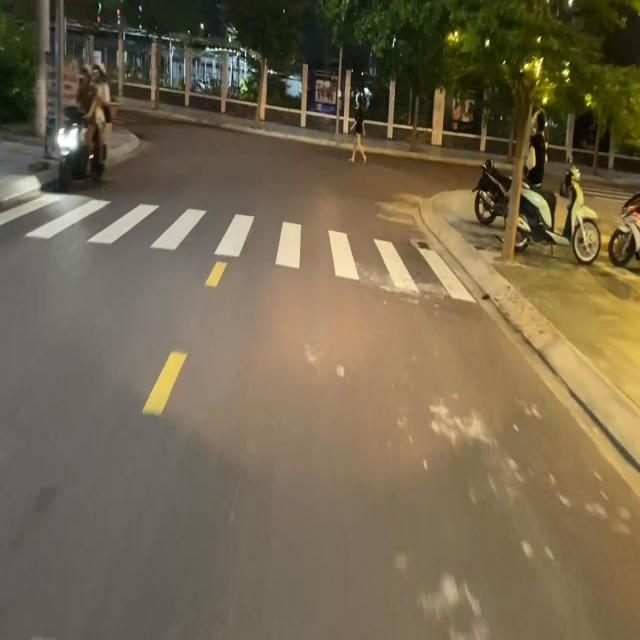walk-crossing: (6, 166, 472, 298)
